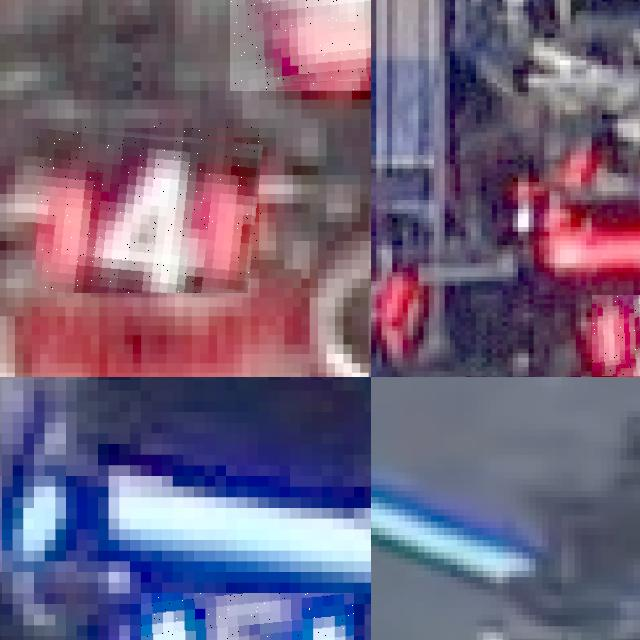B5: (140, 593, 354, 640)
R2: (591, 295, 640, 376)
R4: (36, 123, 263, 293), (229, 0, 371, 90)
